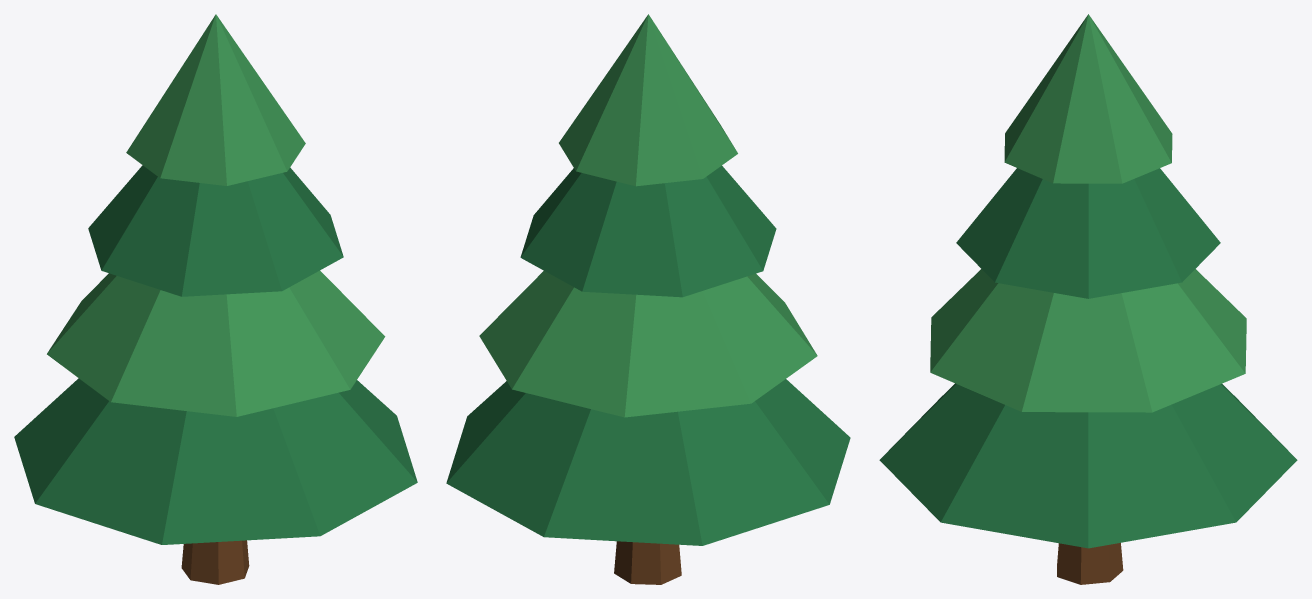
Rendered from tree_pine.glb.
3 views of the same model, side by side, from view 1: azimuth 30°, elevation 25°; view 2: azimuth 150°, elevation 25°; view 3: azimuth 270°, elevation 25° (orthographic).
Parts seen in each view (by area): view 1: TreePineNeedles, TreePineTrunk; view 2: TreePineNeedles, TreePineTrunk; view 3: TreePineNeedles, TreePineTrunk.
Part boxes in pixels (box(x1,y1,x2,y2)): TreePineNeedles: box(14, 14, 417, 544); TreePineTrunk: box(181, 540, 249, 584); TreePineNeedles: box(446, 14, 850, 545); TreePineTrunk: box(614, 541, 681, 584); TreePineNeedles: box(879, 14, 1297, 548); TreePineTrunk: box(1057, 543, 1123, 584).
Size of what is drawn, in the model's own units: 2.4 by 3.52 by 2.4.
